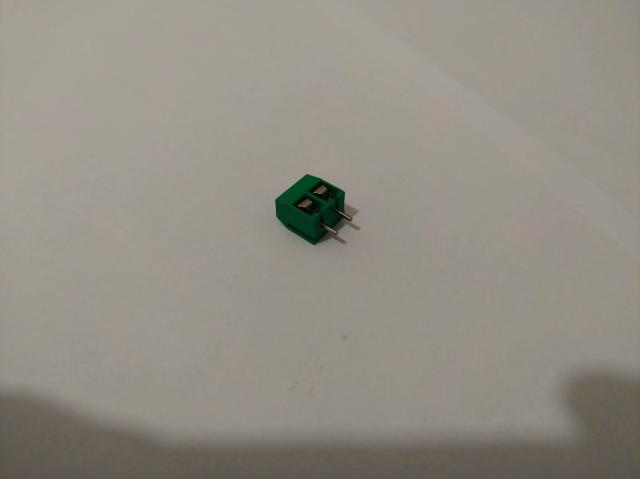terminal_block: (274, 174, 352, 246)
